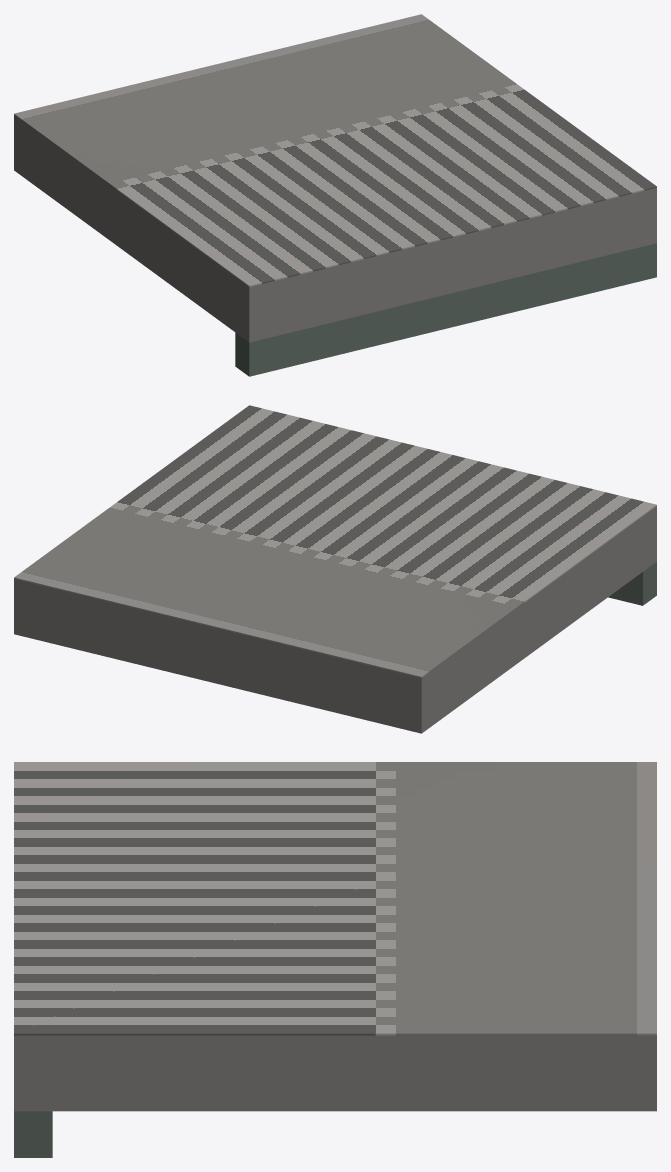
The model's file is CMU3DInteriorVehiclePizzaVanRoof5.glb.
The picture shows the model from 3 angles, top to bottom: view 1: azimuth 30°, elevation 25°; view 2: azimuth 150°, elevation 25°; view 3: azimuth 270°, elevation 25°; orthographic projection. The views are drawn at different scales.
Visible parts, largest first — view 1: overhead armor source finish, overhead armor, inner roof rib; view 2: overhead armor source finish, overhead armor, inner roof rib; view 3: overhead armor source finish, overhead armor, inner roof rib.
Part boxes in pixels (x1=…): overhead armor source finish: x1=14, y1=14, x2=656, y2=286; overhead armor: x1=14, y1=115, x2=656, y2=342; inner roof rib: x1=235, y1=243, x2=656, y2=376; overhead armor source finish: x1=14, y1=405, x2=656, y2=677; overhead armor: x1=14, y1=506, x2=656, y2=733; inner roof rib: x1=608, y1=561, x2=656, y2=605; overhead armor source finish: x1=14, y1=762, x2=656, y2=1035; overhead armor: x1=14, y1=1035, x2=656, y2=1111; inner roof rib: x1=14, y1=1111, x2=52, y2=1157.
Size of the model in its own units: 1 by 0.213 by 1.
Materials: 3 (1 with a texture image).
